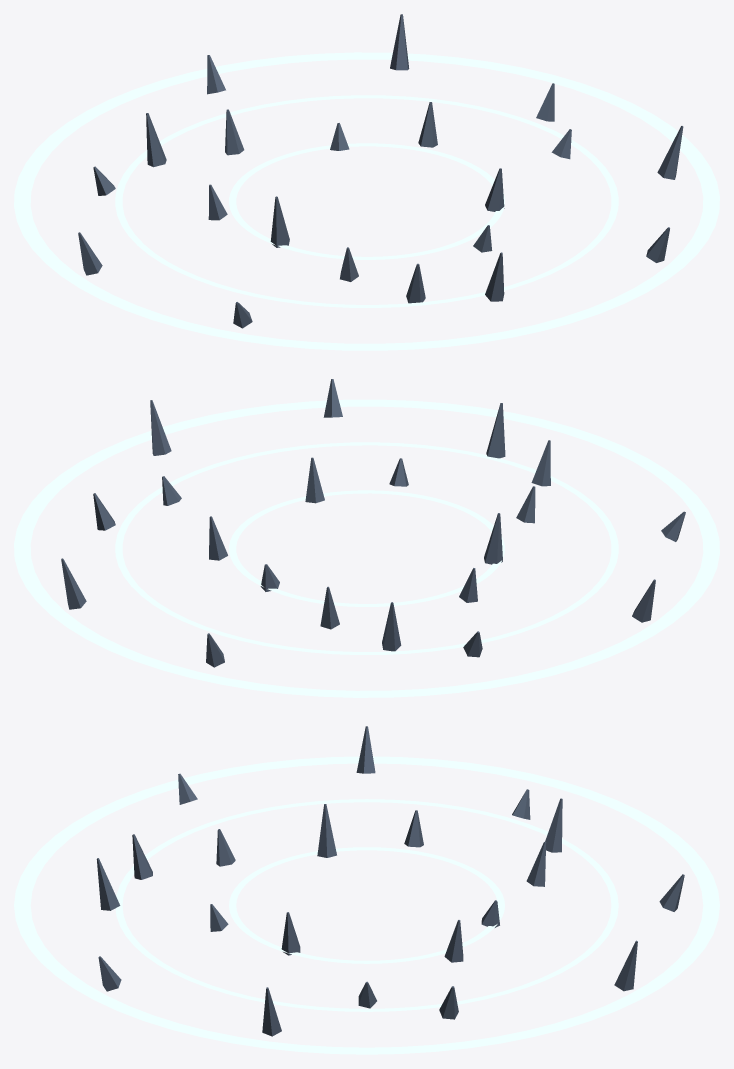
File: FX_BOSS_StoneSlam.glb
3 views of the same model, one above another, from view 1: azimuth 30°, elevation 25°; view 2: azimuth 150°, elevation 25°; view 3: azimuth 270°, elevation 25° (orthographic).
Visible parts, largest first — view 1: FX_BOSS_StoneSlam_Release, FX_BOSS_StoneSlam_Debris; view 2: FX_BOSS_StoneSlam_Release, FX_BOSS_StoneSlam_Debris; view 3: FX_BOSS_StoneSlam_Release, FX_BOSS_StoneSlam_Debris.
Part boxes in pixels (bbox=[...]): FX_BOSS_StoneSlam_Release: bbox=[14, 52, 719, 350]; FX_BOSS_StoneSlam_Debris: bbox=[78, 14, 683, 328]; FX_BOSS_StoneSlam_Release: bbox=[14, 399, 719, 697]; FX_BOSS_StoneSlam_Debris: bbox=[61, 379, 685, 667]; FX_BOSS_StoneSlam_Release: bbox=[14, 756, 719, 1054]; FX_BOSS_StoneSlam_Debris: bbox=[96, 726, 684, 1036].
Size of what is drawn, in the model's own units: 0.0101 by 0.000837 by 0.0101.
